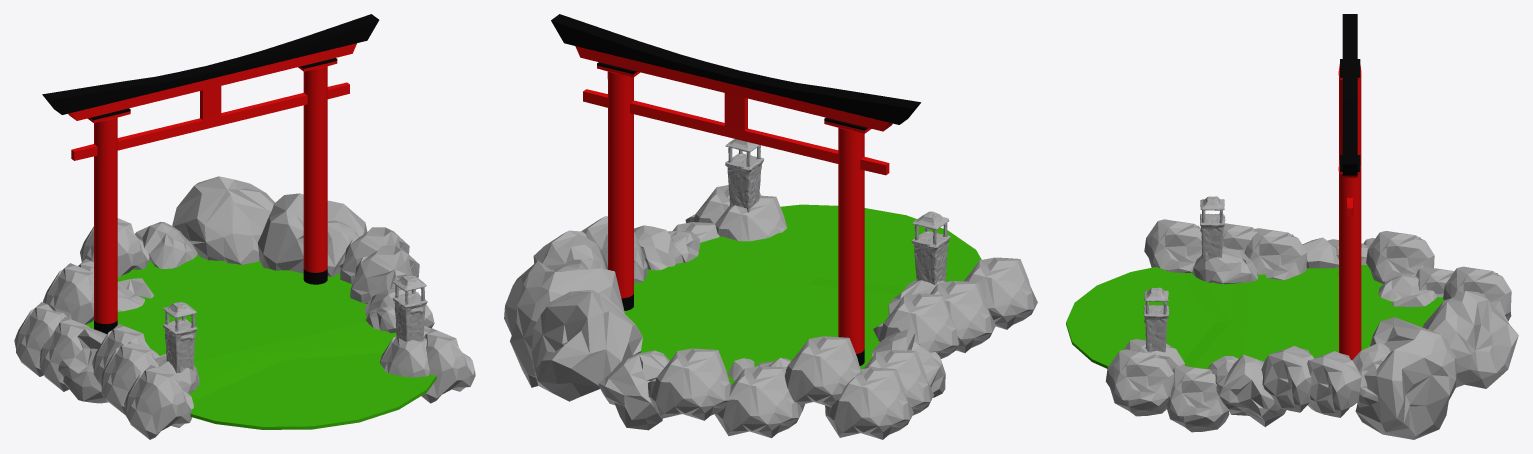
The model's file is gate scene 2.fbx.
3 views of the same model, side by side, from view 1: azimuth 30°, elevation 25°; view 2: azimuth 150°, elevation 25°; view 3: azimuth 270°, elevation 25° (orthographic). The views are drawn at different scales.
Parts seen in each view (by area): view 1: pCylinder4, polySurface2, pPlatonic11, pPlatonic22, pPlatonic12, pPlatonic15, pPlatonic19, pPlatonic1, pPlatonic10, pPlatonic7, pPlatonic13, pCylinder14 (+12 smaller); view 2: pCylinder4, polySurface2, pPlatonic11, pPlatonic22, pPlatonic4, pPlatonic13, pPlatonic2, pPlatonic1, pPlatonic5, pPlatonic8, pPlatonic12, pPlatonic10 (+13 smaller); view 3: pCylinder4, pPlatonic22, polySurface2, pPlatonic11, pPlatonic15, pPlatonic16, pPlatonic20, pPlatonic18, pPlatonic19, pPlatonic1, pPlatonic12, pPlatonic8 (+11 smaller).
Part boxes in pixels (x1,y1,x2,y2): pCylinder4: (85, 253, 436, 429); polySurface2: (42, 14, 379, 333); pPlatonic11: (172, 176, 275, 264); pPlatonic22: (258, 193, 367, 273); pPlatonic12: (124, 365, 193, 439); pPlatonic15: (421, 328, 475, 403); pPlatonic19: (350, 245, 419, 303); pPlatonic1: (43, 263, 93, 324); pPlatonic10: (100, 341, 158, 414); pPlatonic7: (58, 327, 108, 403); pPlatonic13: (14, 302, 66, 376); pCylinder14: (162, 301, 197, 373); pCylinder4: (624, 204, 981, 384); polySurface2: (551, 14, 920, 365); pPlatonic11: (531, 290, 642, 401); pPlatonic22: (504, 261, 624, 387); pPlatonic4: (648, 348, 731, 420); pPlatonic13: (825, 367, 913, 439); pPlatonic2: (714, 366, 802, 438); pPlatonic1: (784, 336, 861, 407); pPlatonic5: (598, 350, 669, 430); pPlatonic8: (873, 293, 959, 358); pPlatonic12: (964, 257, 1037, 329); pPlatonic10: (930, 281, 995, 352); pCylinder4: (1066, 265, 1443, 369); pPlatonic22: (1355, 317, 1457, 439); polySurface2: (1338, 14, 1361, 359); pPlatonic11: (1422, 291, 1518, 388); pPlatonic15: (1105, 349, 1174, 416); pPlatonic16: (1166, 365, 1229, 432); pPlatonic20: (1307, 351, 1361, 417); pPlatonic18: (1216, 354, 1286, 426); pPlatonic19: (1261, 346, 1313, 412); pPlatonic1: (1366, 231, 1434, 283); pPlatonic12: (1144, 219, 1201, 272); pPlatonic8: (1244, 228, 1307, 280).
Bounding box in the file's own units: 45.53 × 35.97 × 51.91.
